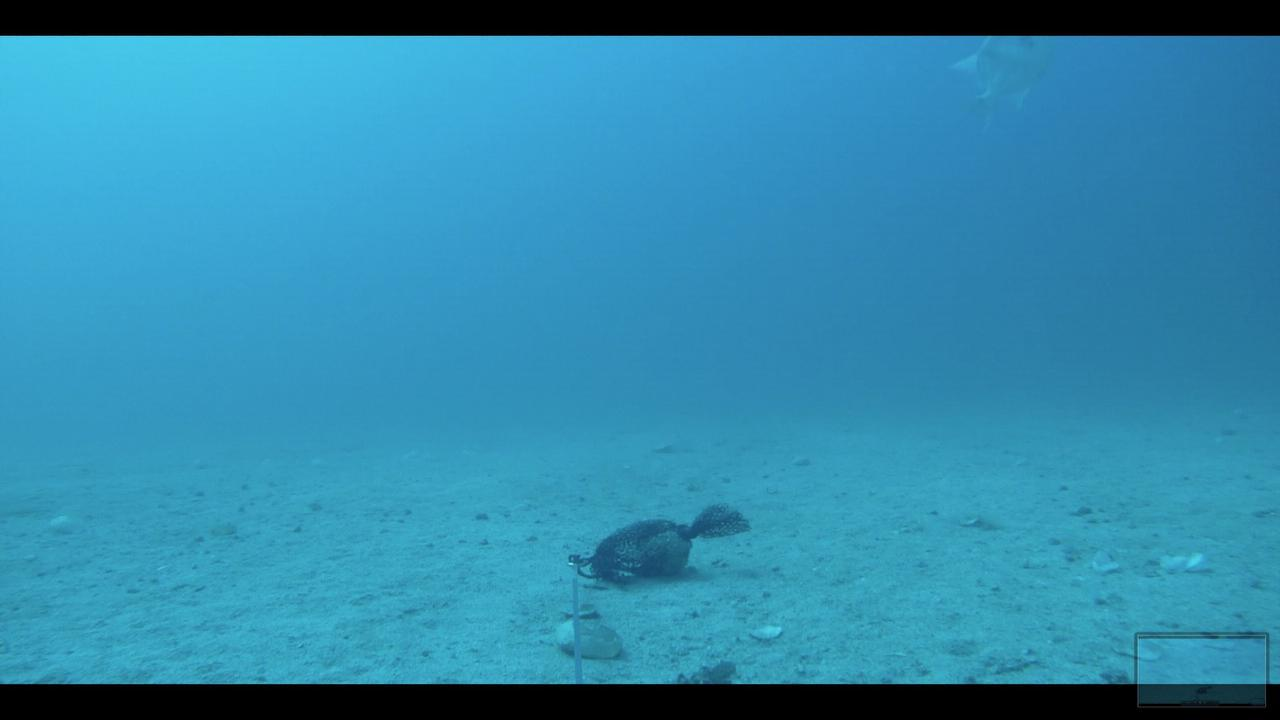balistes: (943, 37, 1058, 144)
